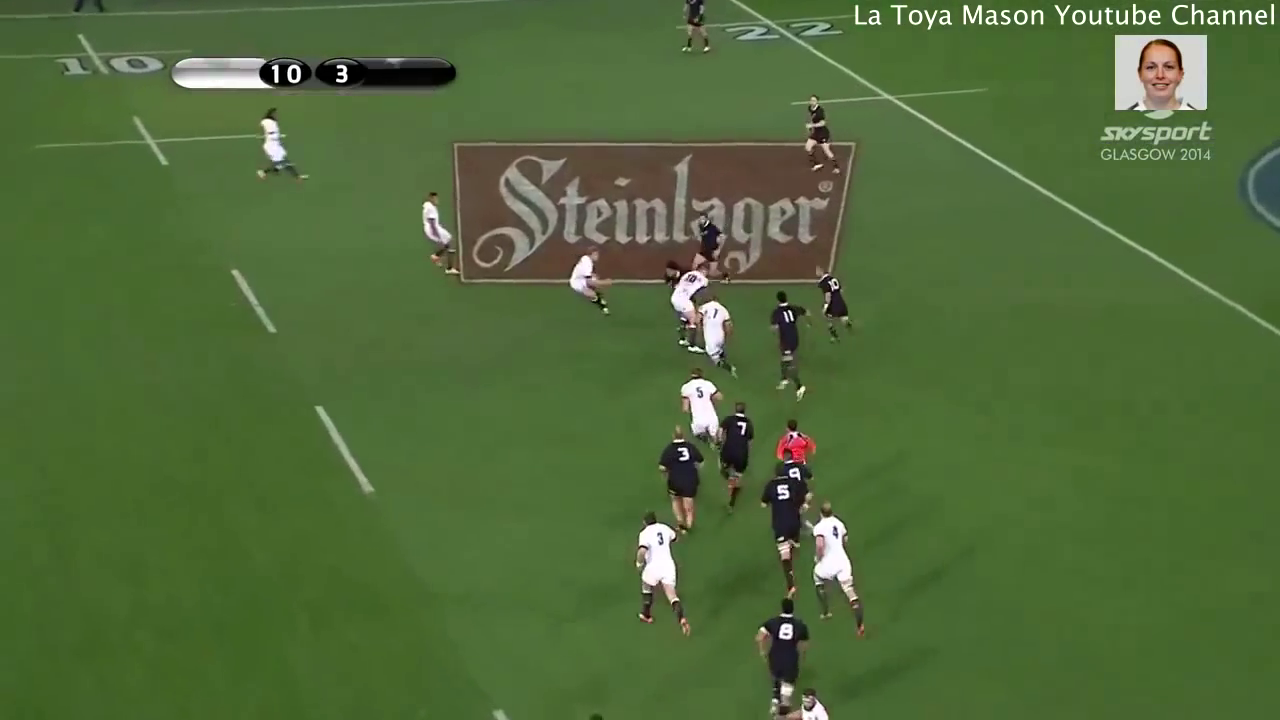10_metre: (27, 107, 285, 180), (1, 25, 197, 84)
player: (621, 503, 705, 648), (797, 492, 873, 644), (737, 587, 813, 720), (756, 459, 810, 605), (705, 380, 756, 517), (758, 281, 813, 408), (245, 100, 320, 192), (652, 421, 703, 548), (794, 84, 853, 188), (809, 258, 865, 355), (408, 184, 465, 279), (662, 258, 715, 360), (561, 238, 620, 324), (670, 361, 726, 451), (689, 287, 741, 380), (680, 208, 737, 292), (765, 443, 825, 504), (774, 420, 819, 475), (677, 1, 717, 60), (768, 684, 831, 720), (650, 254, 691, 292)
